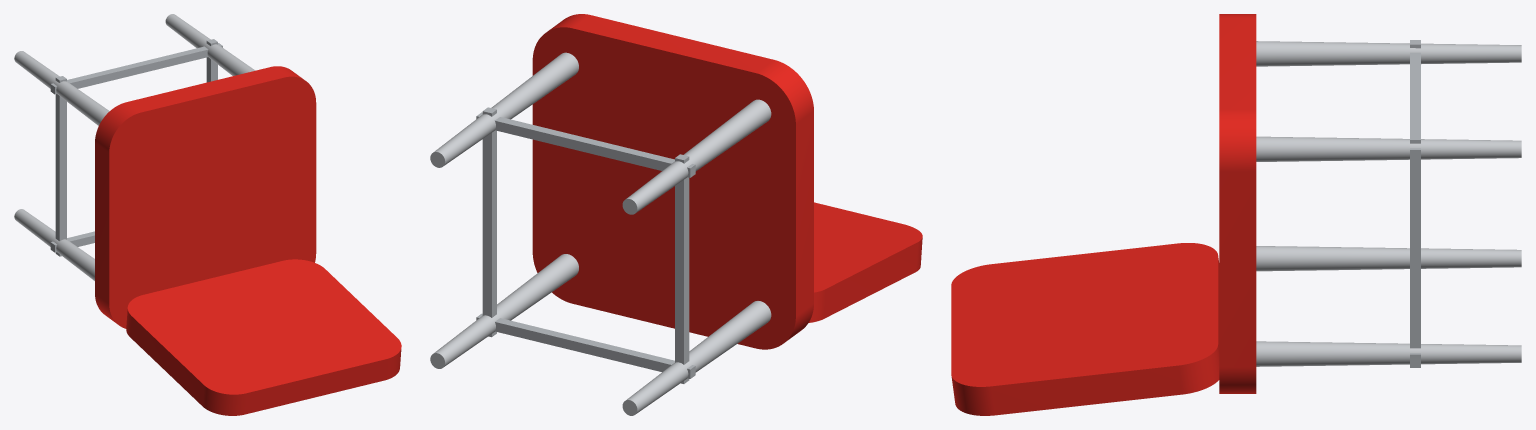
Rendered from chair.glb.
3 renders of one model, left to right at view 1: azimuth 30°, elevation 25°; view 2: azimuth 150°, elevation 25°; view 3: azimuth 270°, elevation 25°, orthographic. The views are drawn at different scales.
Parts seen in each view (by area): view 1: 座面, 背もたれ, 貫_左, 貫_前, 脚_前左, 脚_後左, 脚_前右; view 2: 座面, 背もたれ, 脚_前左, 脚_後左, 脚_前右, 脚_後右, 貫_左, 貫_右, 貫_前, 貫_後; view 3: 背もたれ, 座面, 脚_前右, 脚_前左, 脚_後右, 脚_後左, 貫_右, 貫_前.
Boxes of the visible parts, left/top/right/bottom form: 座面: left=95, top=66, right=316, bottom=328; 背もたれ: left=126, top=259, right=401, bottom=415; 貫_左: left=55, top=76, right=66, bottom=256; 貫_前: left=50, top=43, right=222, bottom=94; 脚_前左: left=14, top=51, right=109, bottom=125; 脚_後左: left=14, top=209, right=94, bottom=280; 脚_前右: left=165, top=14, right=255, bottom=75; 座面: left=532, top=14, right=813, bottom=349; 背もたれ: left=809, top=202, right=922, bottom=322; 脚_前左: left=622, top=99, right=771, bottom=214; 脚_後左: left=622, top=301, right=771, bottom=415; 脚_前右: left=430, top=52, right=578, bottom=167; 脚_後右: left=430, top=254, right=578, bottom=368; 貫_左: left=675, top=154, right=689, bottom=383; 貫_右: left=482, top=107, right=496, bottom=337; 貫_前: left=476, top=112, right=695, bottom=177; 貫_後: left=476, top=313, right=695, bottom=378; 背もたれ: left=951, top=243, right=1219, bottom=415; 座面: left=1219, top=14, right=1256, bottom=393; 脚_前右: left=1256, top=136, right=1521, bottom=161; 脚_前左: left=1256, top=41, right=1521, bottom=66; 脚_後右: left=1256, top=341, right=1521, bottom=366; 脚_後左: left=1256, top=246, right=1521, bottom=271; 貫_右: left=1410, top=135, right=1420, bottom=367; 貫_前: left=1410, top=52, right=1420, bottom=159.
Bounding box in the file's own units: 460 × 484 × 849.
